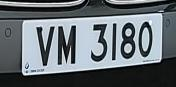0: (135, 17, 154, 62)
1: (109, 20, 120, 63)
3: (88, 19, 109, 66)
8: (119, 18, 136, 63)
M: (56, 21, 81, 71)
V: (34, 21, 57, 73)
